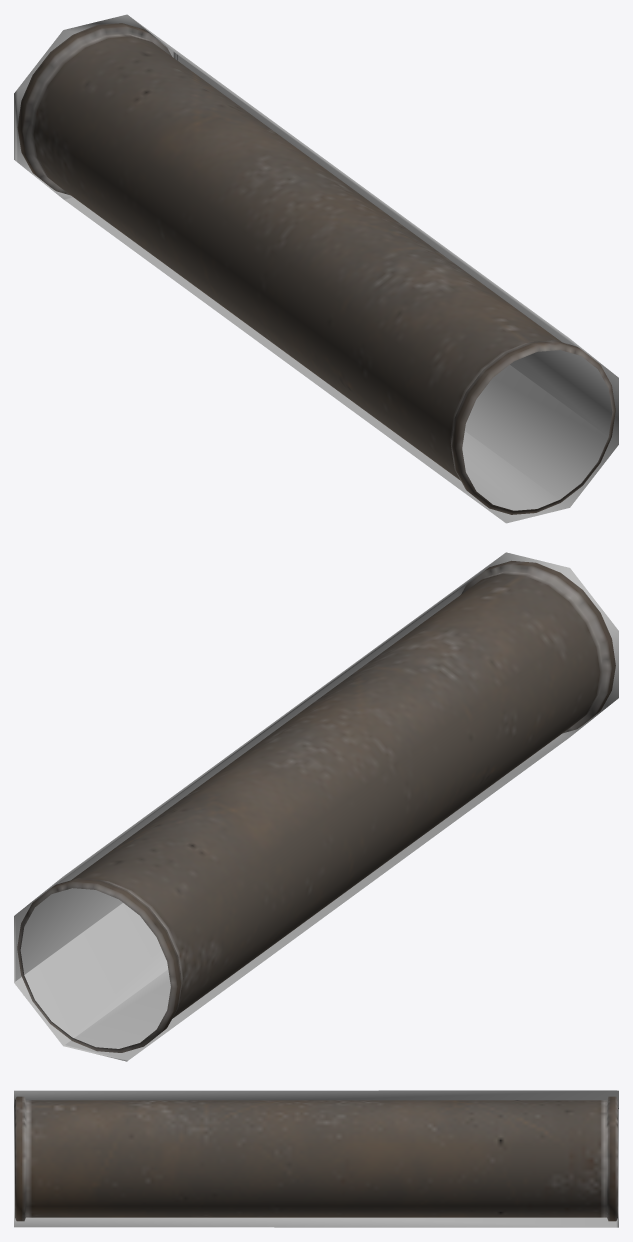
The model's file is SM_Pipe_long.gltf.
3 renders of one model, top to bottom at view 1: azimuth 30°, elevation 25°; view 2: azimuth 150°, elevation 25°; view 3: azimuth 270°, elevation 25°, orthographic. The views are drawn at different scales.
Visible parts, largest first — view 1: SM_Pipe_long_LOD0, SM_Pipe_long_ConvexHulls; view 2: SM_Pipe_long_LOD0, SM_Pipe_long_ConvexHulls; view 3: SM_Pipe_long_LOD0, SM_Pipe_long_ConvexHulls.
Boxes of the visible parts, left/top/right/bottom form: SM_Pipe_long_LOD0: left=17, top=23, right=615, bottom=514; SM_Pipe_long_ConvexHulls: left=14, top=14, right=618, bottom=523; SM_Pipe_long_LOD0: left=17, top=560, right=615, bottom=1052; SM_Pipe_long_ConvexHulls: left=14, top=552, right=618, bottom=1061; SM_Pipe_long_LOD0: left=15, top=1096, right=617, bottom=1221; SM_Pipe_long_ConvexHulls: left=14, top=1090, right=618, bottom=1227.
Size of what is drawn, in the model's own units: 0.1205 by 0.1203 by 0.5693.
